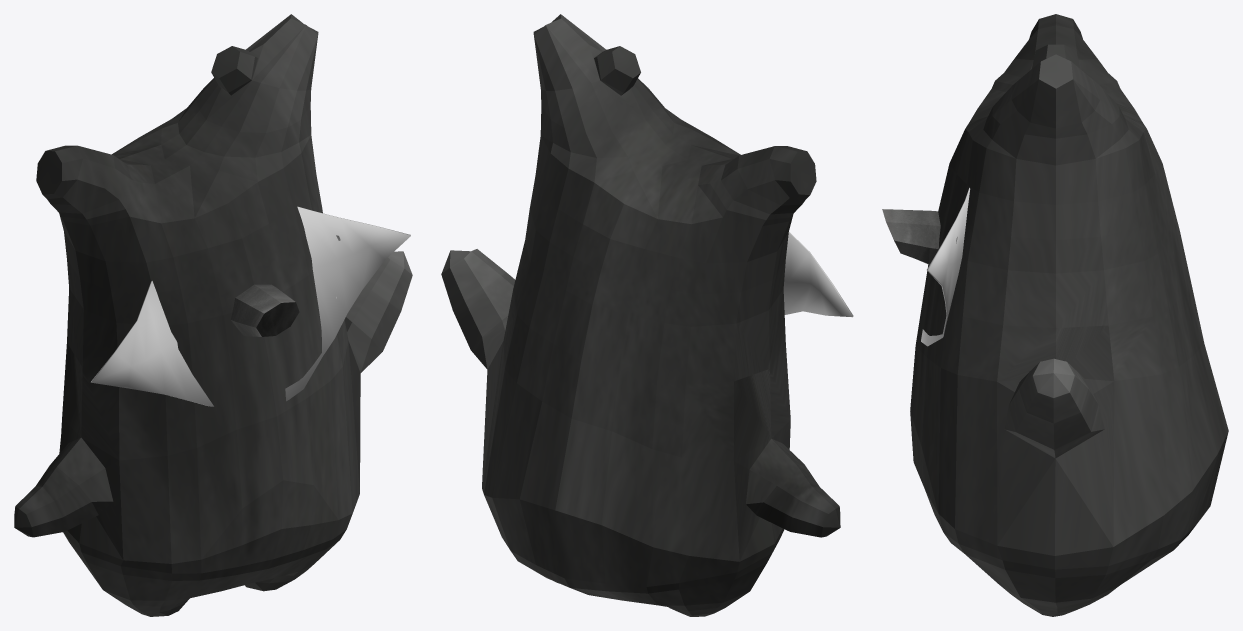
The model's file is frame_0035.obj.
3 views of the same model, side by side, from view 1: azimuth 30°, elevation 25°; view 2: azimuth 150°, elevation 25°; view 3: azimuth 270°, elevation 25° (orthographic).
Visible parts, largest first — view 1: korok, leaf, nose; view 2: korok, leaf; view 3: korok, nose, leaf.
Part boxes in pixels (left/top/right/bottom): korok: left=14, top=14, right=412, bottom=616; leaf: left=91, top=206, right=410, bottom=406; nose: left=230, top=284, right=299, bottom=336; korok: left=441, top=14, right=840, bottom=616; leaf: left=783, top=232, right=853, bottom=317; korok: left=910, top=14, right=1228, bottom=616; nose: left=882, top=209, right=940, bottom=264; leaf: left=921, top=187, right=970, bottom=346.
Size of the model in its own units: 1.69 by 2.31 by 1.27.
